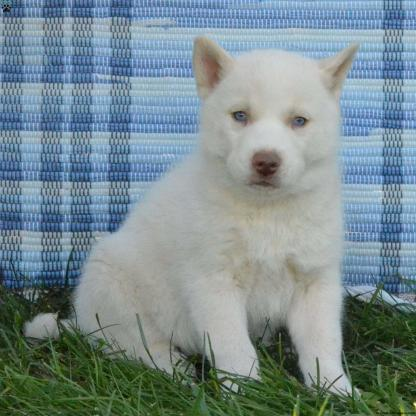dog: (26, 37, 365, 398)
